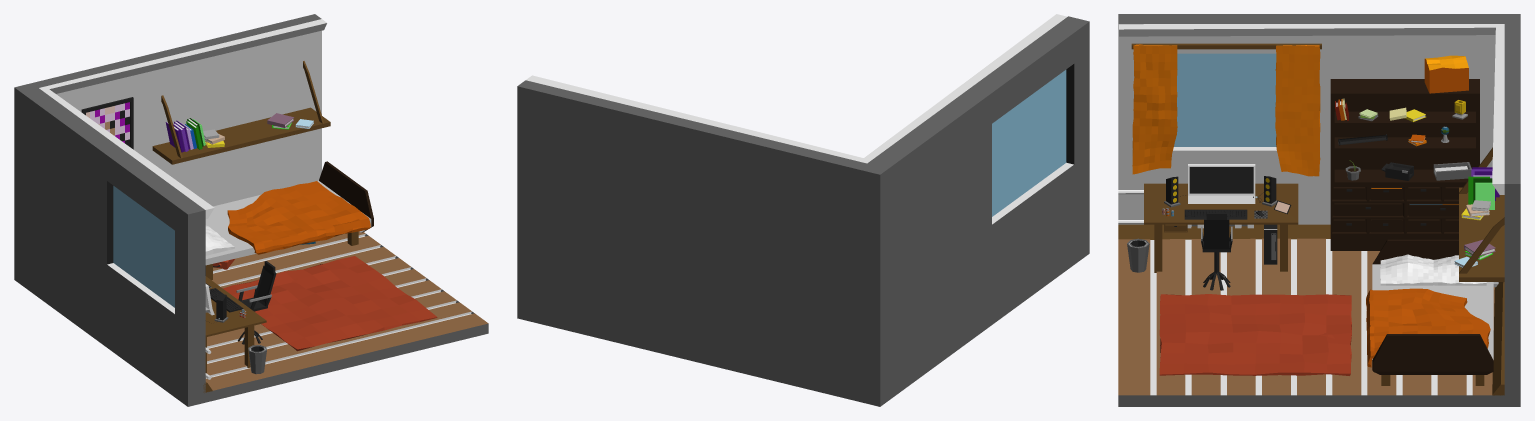
The model's file is main_room.glb.
3 renders of one model, left to right at view 1: azimuth 30°, elevation 25°; view 2: azimuth 150°, elevation 25°; view 3: azimuth 270°, elevation 25°, orthographic. The views are drawn at different scales.
Visible parts, largest first — view 1: Plane_Material_0.3390, Plane_Material_0.3391, Plane_Material_0.3389, Plane_Material_0.3393, Plane_Material_0.3564, Plane_Material_0.5403, Plane_Material_0.4250, Plane_Material_0.5446, Plane_Material_0.5389, Plane_Material_0.3392, Plane_Material_0.5449, Plane_Material_0.5450 (+13 smaller); view 2: Plane_Material_0.3388, Plane_Material_0.3390, Plane_Material_0.3393, Plane_Material_0.3564, Plane_Material_0.5449, Plane_Material_0.5450, Plane_Material_0.3558, Plane_Material_0.3557; view 3: Plane_Material_0.3556, Plane_Material_0.3563, Plane_Material_0.3387, Plane_Material_0.3393, Plane_Material_0.1193, Plane_Material_0.5403, Plane_Material_0.5288, Plane_Material_0.5447, Plane_Material_0.5388, Plane_Material_0.5464, Plane_Material_0.3392, Plane_Material_0.4250 (+54 smaller).
Boxes of the visible parts, box(x1,y1,x2,y2) form: Plane_Material_0.3390: box(14, 87, 187, 406); Plane_Material_0.3391: box(56, 30, 321, 206); Plane_Material_0.3389: box(188, 210, 488, 406); Plane_Material_0.3393: box(14, 14, 321, 214); Plane_Material_0.3564: box(113, 186, 174, 307); Plane_Material_0.5403: box(205, 313, 488, 390); Plane_Material_0.4250: box(153, 107, 329, 160); Plane_Material_0.5446: box(49, 23, 326, 93); Plane_Material_0.5389: box(212, 235, 380, 284); Plane_Material_0.3392: box(207, 302, 471, 375); Plane_Material_0.5449: box(40, 19, 326, 89); Plane_Material_0.5450: box(39, 88, 214, 209); Plane_Material_0.3388: box(517, 86, 880, 406); Plane_Material_0.3390: box(880, 21, 1089, 406); Plane_Material_0.3393: box(517, 16, 1089, 174); Plane_Material_0.3564: box(992, 70, 1066, 216); Plane_Material_0.5449: box(526, 75, 866, 163); Plane_Material_0.5450: box(864, 14, 1067, 163); Plane_Material_0.3558: box(1066, 64, 1074, 164); Plane_Material_0.3557: box(992, 162, 1073, 224); Plane_Material_0.3556: box(1118, 24, 1495, 224); Plane_Material_0.3563: box(1174, 53, 1276, 146); Plane_Material_0.3387: box(1118, 184, 1520, 406); Plane_Material_0.3393: box(1118, 14, 1520, 183); Plane_Material_0.1193: box(1334, 97, 1475, 169); Plane_Material_0.5403: box(1118, 239, 1150, 395); Plane_Material_0.5288: box(1373, 335, 1493, 362); Plane_Material_0.5447: box(1119, 27, 1495, 36); Plane_Material_0.5388: box(1332, 251, 1361, 395); Plane_Material_0.5464: box(1144, 183, 1297, 222); Plane_Material_0.3392: box(1156, 239, 1185, 395); Plane_Material_0.4250: box(1459, 187, 1504, 277).
Bounding box in the file's own units: 400 × 245 × 400.
Materials: 1 (1 with a texture image).
